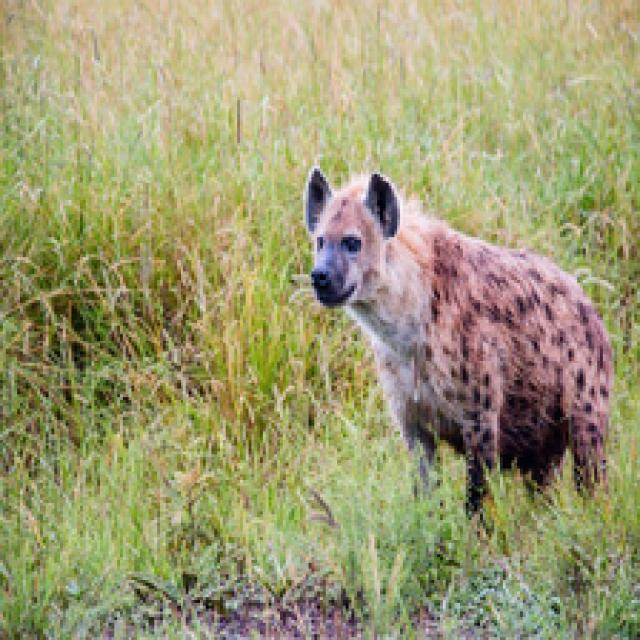hyena: (290, 162, 630, 535)
